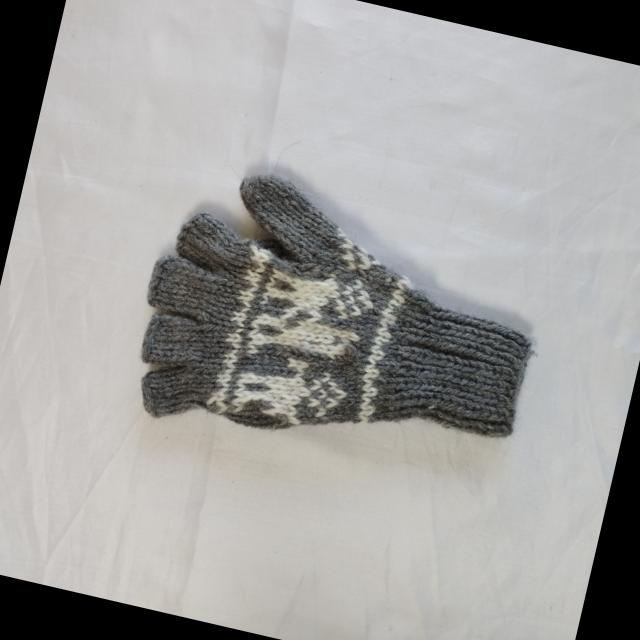Guante: (118, 152, 561, 500)
